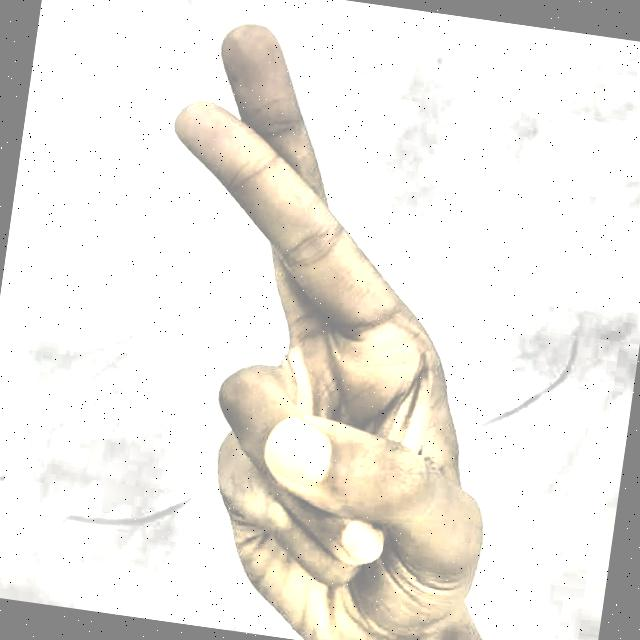Ra: (64, 0, 589, 640)
